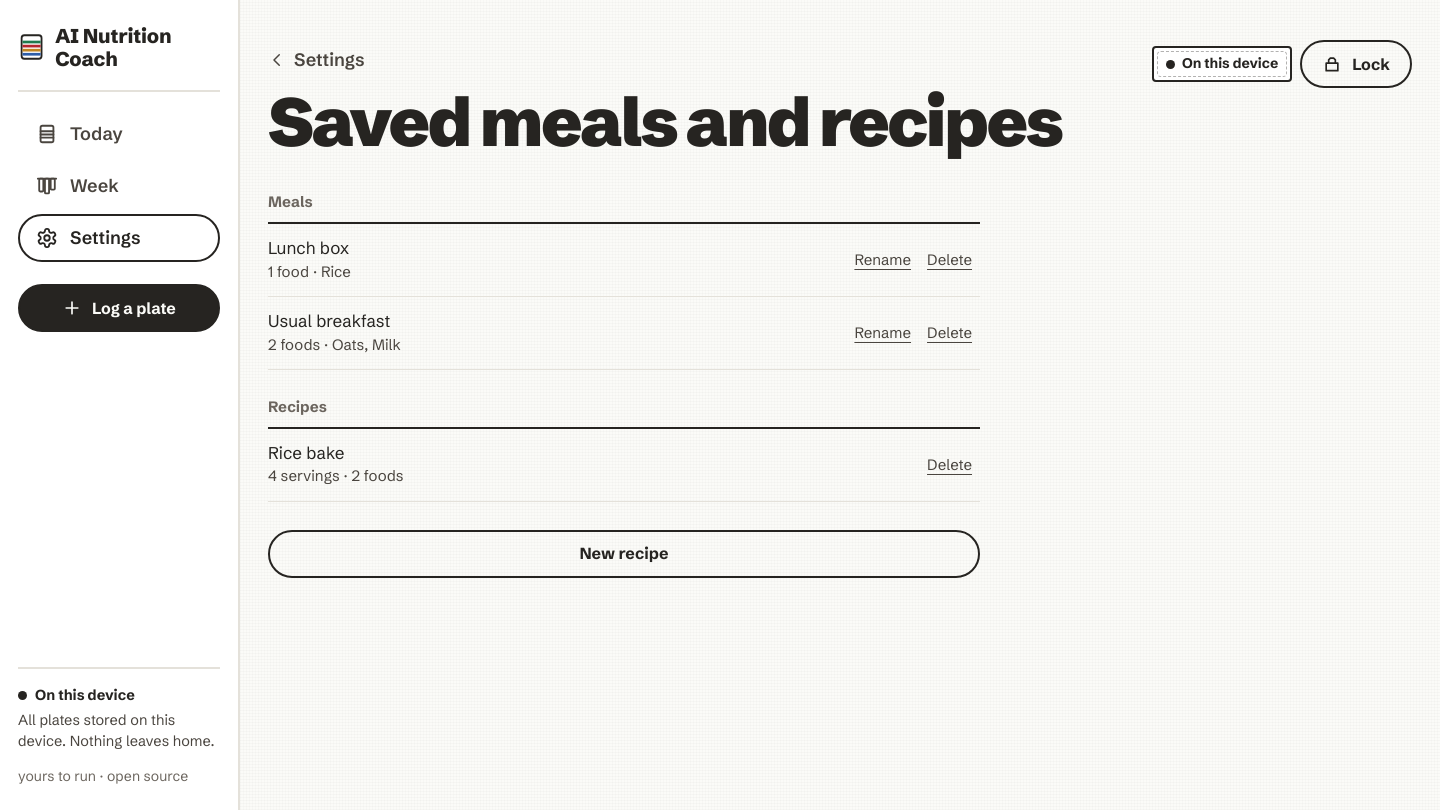
SavedScreen › renames a meal, and refuses an empty name
Expected: the text "Usual breakfast" is shown, [268, 310, 390, 331]
Click the button with aria-label "Rename Lunch box": (883, 260) [846, 236, 919, 284]
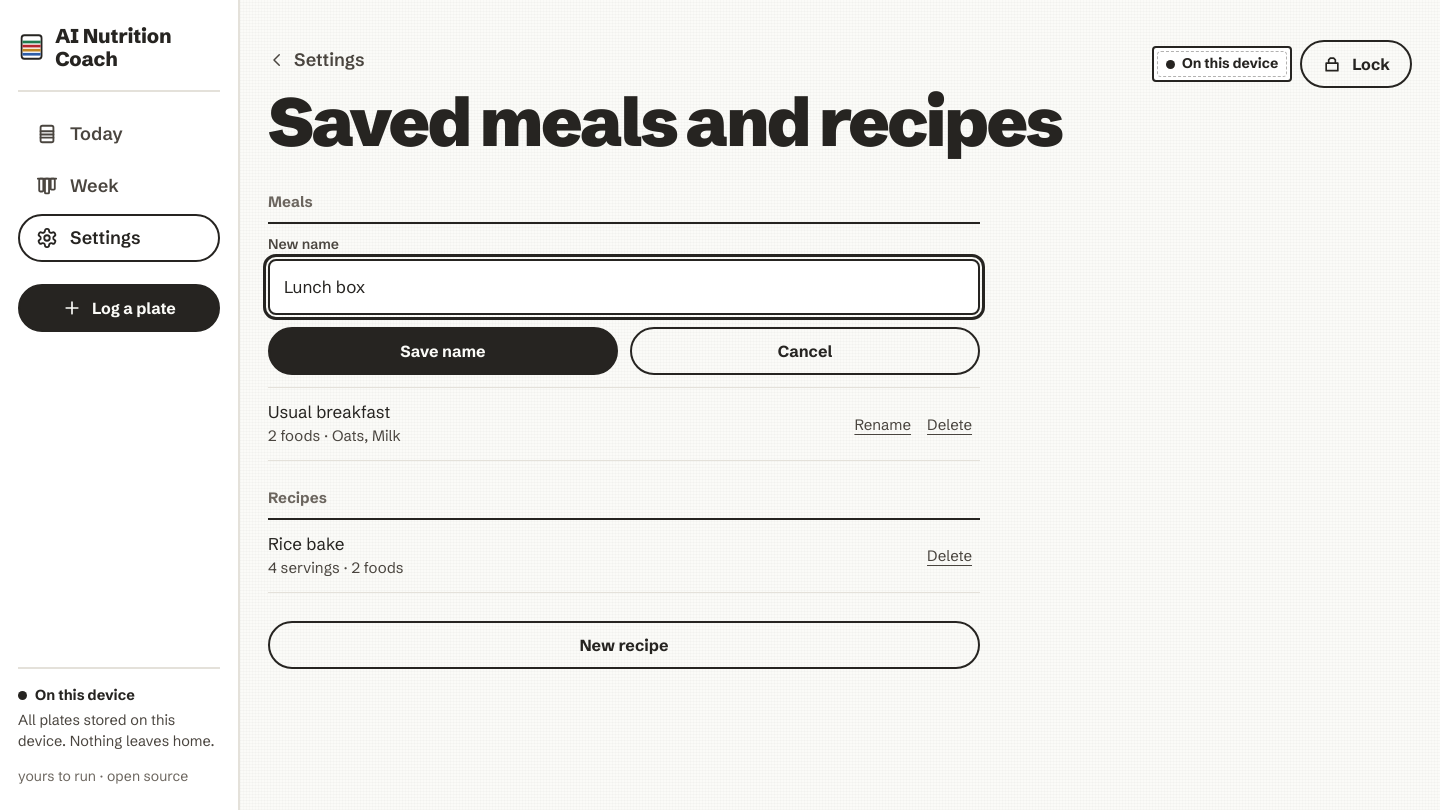
Clear the field labelled "New name": (624, 287) [270, 261, 978, 313]
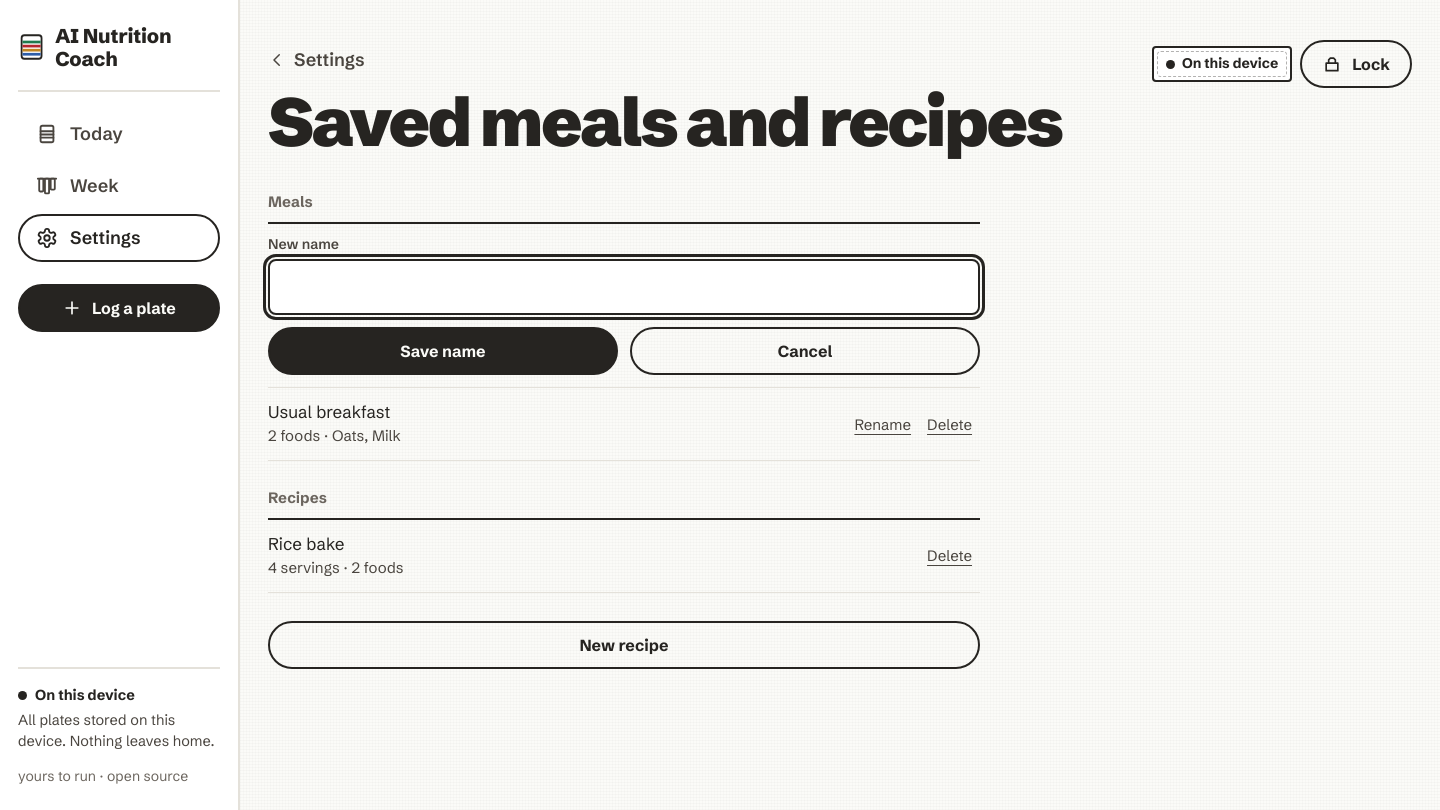
Click the button "Save name": (443, 351) [268, 327, 618, 375]
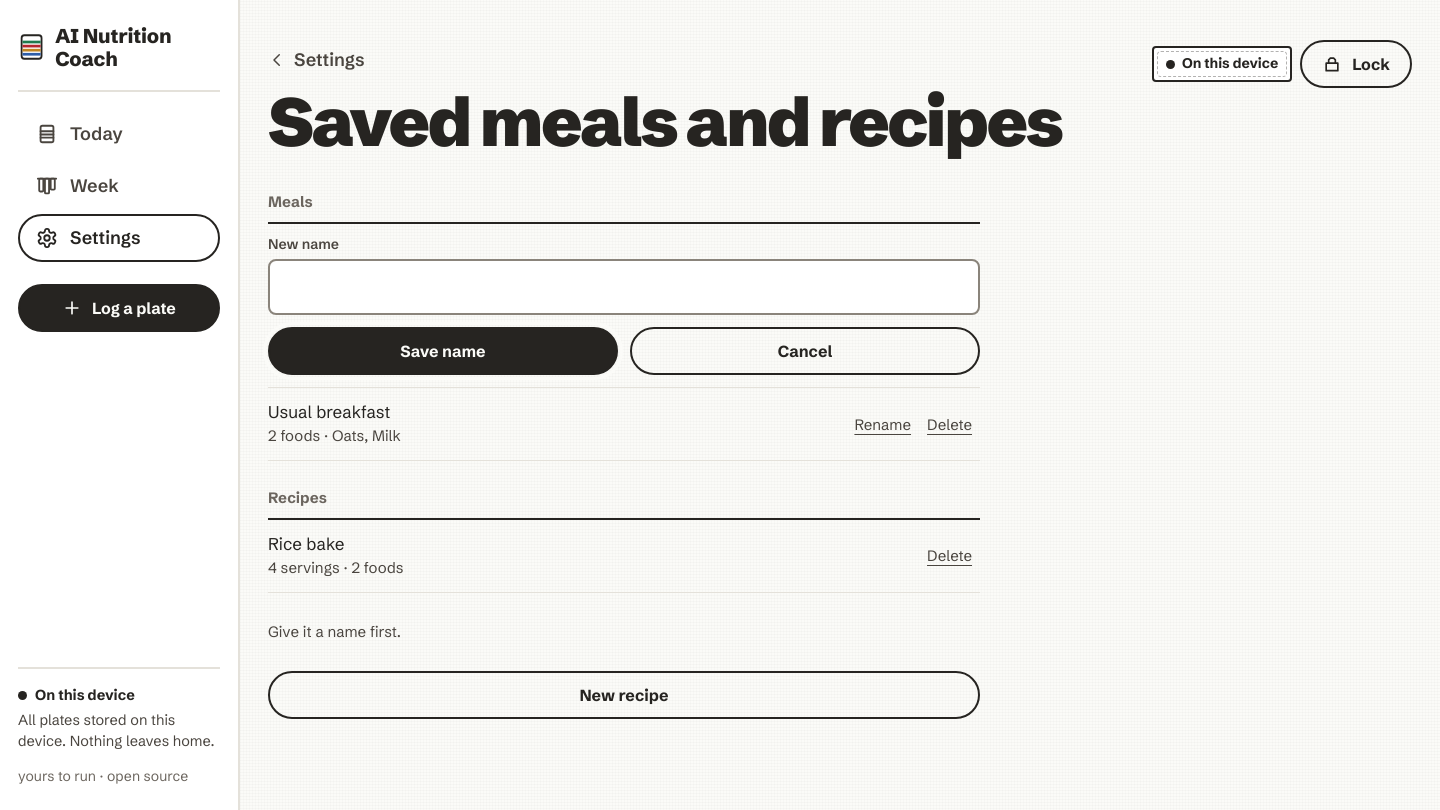
Now the text "Give it a name first." is shown, box [268, 622, 401, 641]
In the field labelled "New name": (624, 287) [270, 261, 978, 313], type "Packed lunch"
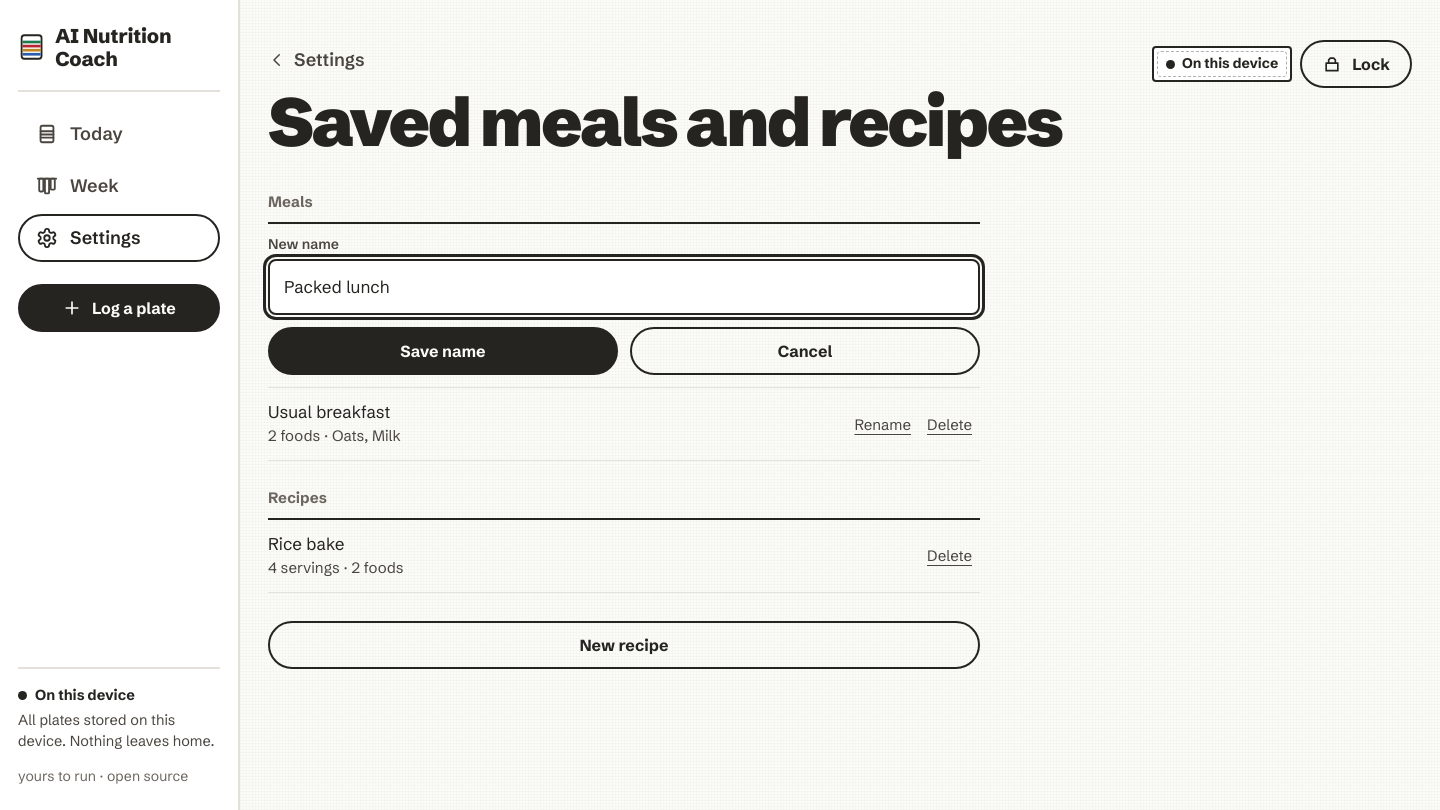
Click the button "Save name": (443, 351) [268, 327, 618, 375]
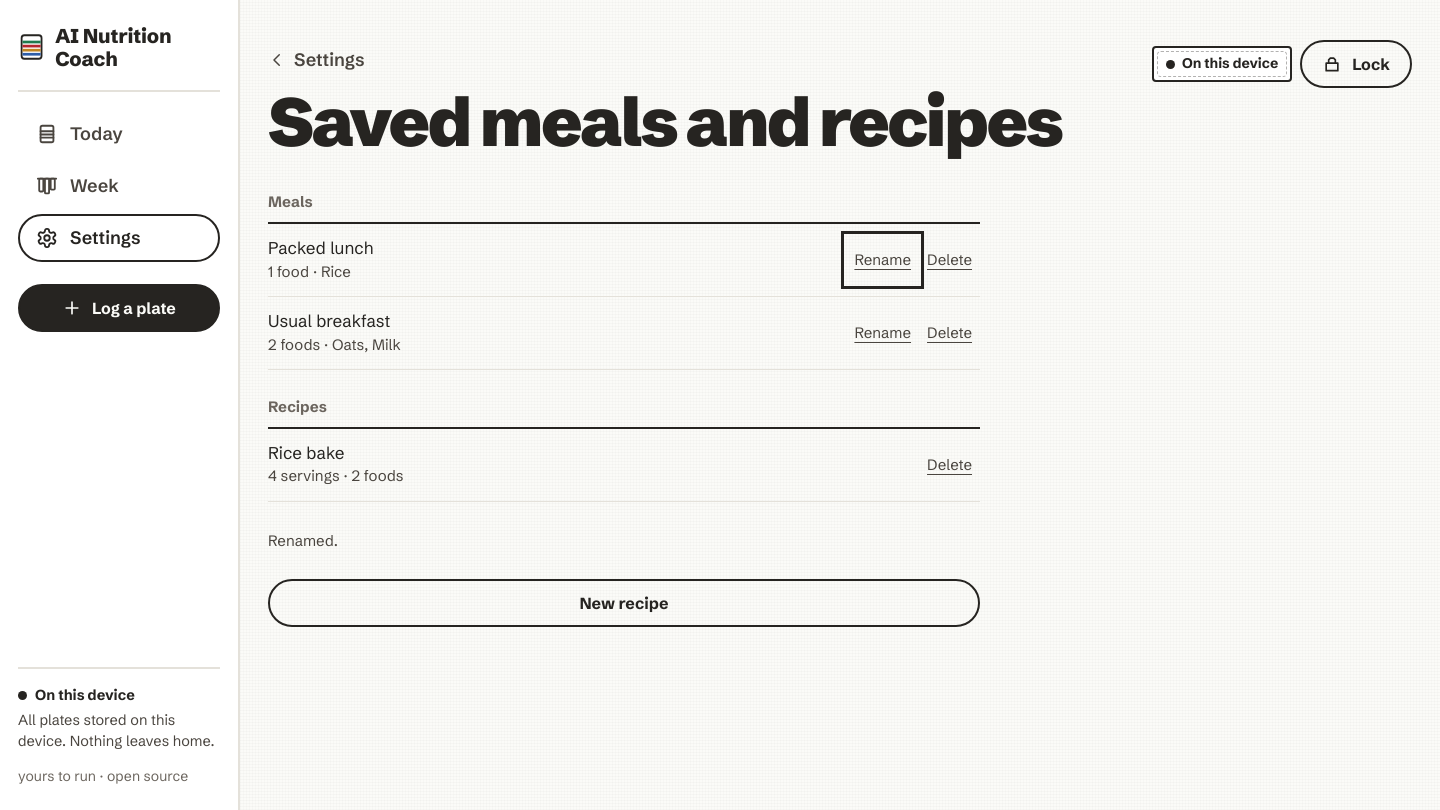
Now the text "Packed lunch" is shown, box [268, 237, 373, 258]
Now the text "Renamed." is shown, box [268, 531, 338, 550]
